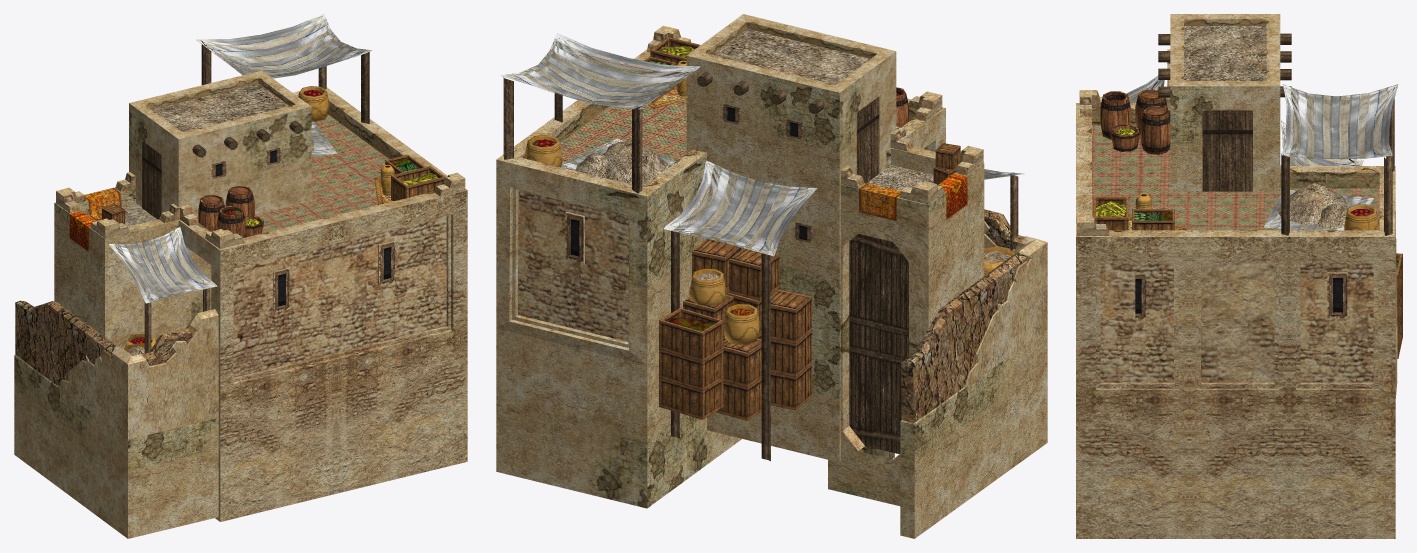
Rendered from pers_farmstead.glb.
3 views of the same model, side by side, from view 1: azimuth 30°, elevation 25°; view 2: azimuth 150°, elevation 25°; view 3: azimuth 270°, elevation 25° (orthographic). The views are drawn at different scales.
Bounding box in the file's own units: 18.28 × 18.18 × 13.77.
Materials: 1 (1 with a texture image).
